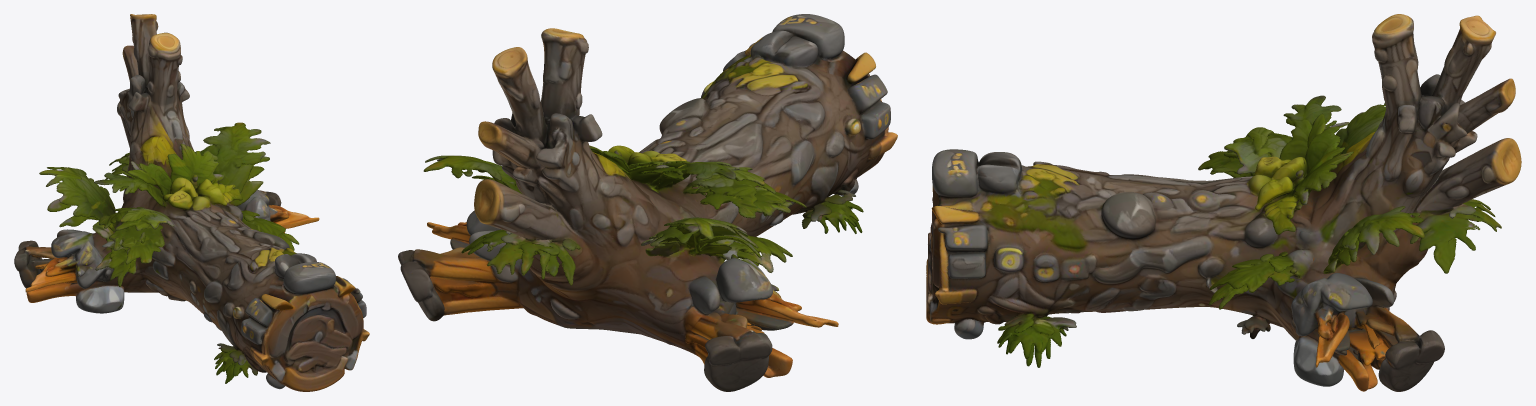
The model's file is fallen-log.glb.
3 views of the same model, side by side, from view 1: azimuth 30°, elevation 25°; view 2: azimuth 150°, elevation 25°; view 3: azimuth 270°, elevation 25° (orthographic). The views are drawn at different scales.
Visible parts, largest first — view 1: tripo_node_af60db8e-c800-42ba-bcfa-661a0d46d8d5; view 2: tripo_node_af60db8e-c800-42ba-bcfa-661a0d46d8d5; view 3: tripo_node_af60db8e-c800-42ba-bcfa-661a0d46d8d5.
Boxes of the visible parts, left/top/right/bottom form: tripo_node_af60db8e-c800-42ba-bcfa-661a0d46d8d5: left=14, top=14, right=369, bottom=391; tripo_node_af60db8e-c800-42ba-bcfa-661a0d46d8d5: left=398, top=14, right=897, bottom=391; tripo_node_af60db8e-c800-42ba-bcfa-661a0d46d8d5: left=926, top=14, right=1521, bottom=391.
Size of the model in its own units: 0.7801 by 0.5932 by 1.
1 material, 1 textured.
